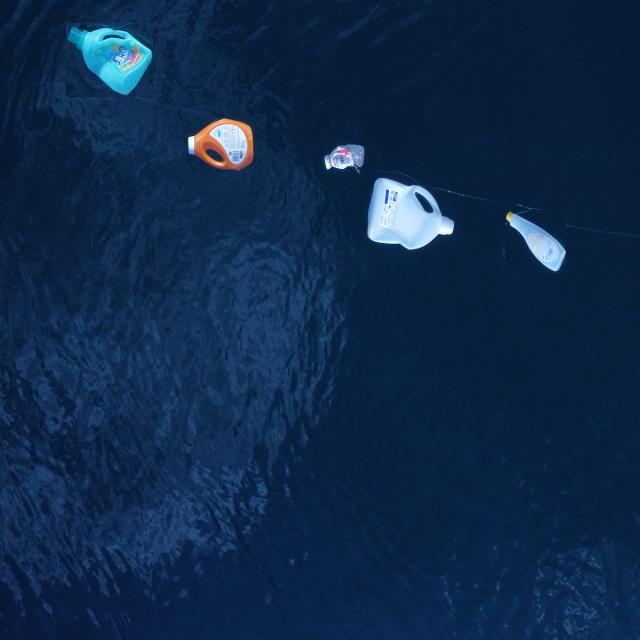bottles: (366, 177, 455, 252), (66, 22, 153, 96), (505, 210, 566, 274), (187, 117, 255, 172), (324, 144, 366, 172)
